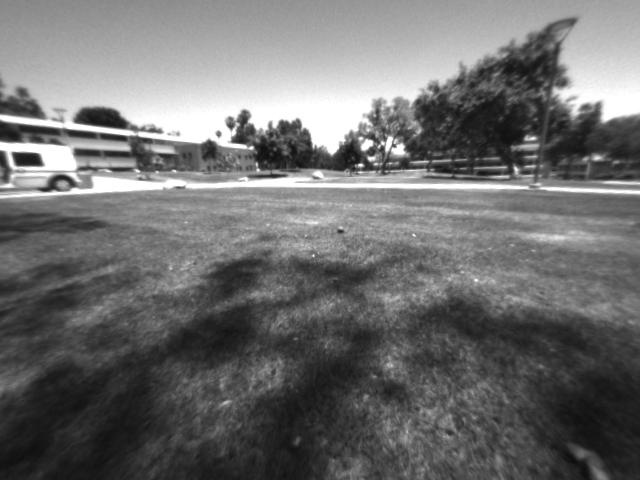dogtoy: (329, 219, 361, 241)
